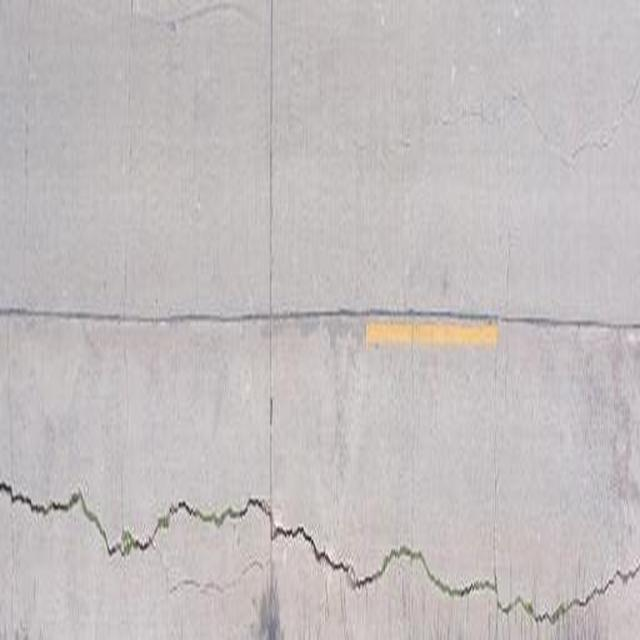minor crack: (110, 13, 145, 626), (488, 24, 519, 637), (398, 86, 522, 155), (270, 518, 370, 583), (0, 482, 88, 518), (70, 488, 115, 552)
moderate crack: (268, 0, 340, 277), (6, 308, 633, 331), (505, 64, 632, 165), (1, 255, 32, 640), (261, 11, 276, 618), (604, 326, 637, 526), (20, 0, 36, 342), (141, 3, 258, 35), (168, 562, 268, 596), (364, 320, 502, 344), (316, 315, 365, 348), (564, 606, 605, 640), (256, 580, 280, 636), (528, 605, 566, 626), (614, 562, 640, 583), (156, 510, 172, 530)
severe crack: (507, 556, 640, 625), (343, 541, 494, 600), (168, 496, 264, 528), (107, 526, 156, 554), (497, 592, 542, 617), (291, 316, 324, 339), (350, 569, 378, 588), (270, 512, 290, 534), (164, 16, 180, 32), (152, 318, 176, 326)
